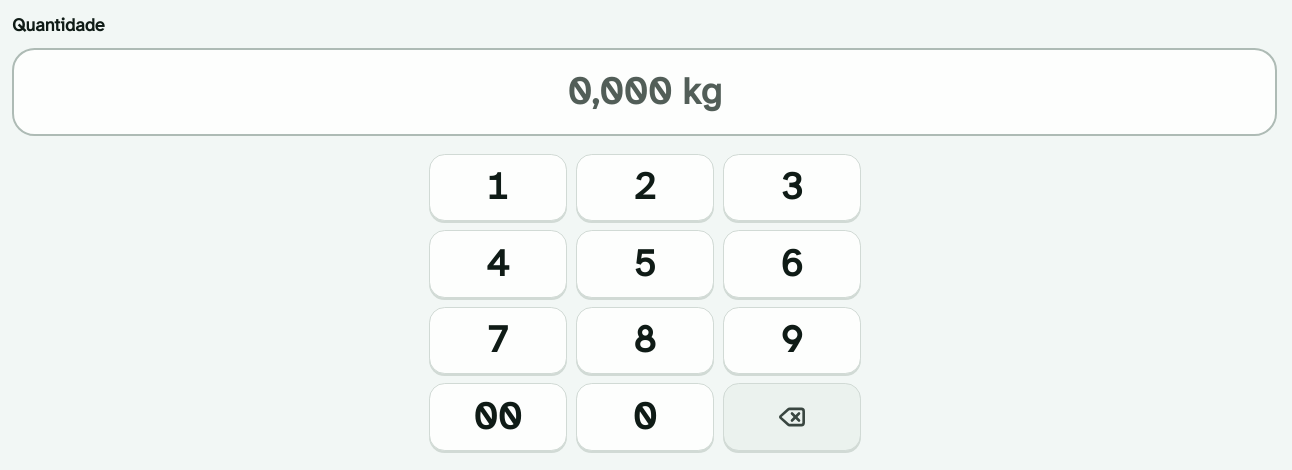
Test: QuantityInput › em kg, os dígitos entram pela direita com 3 casas
Click the field labelled "Quantidade".
click(644, 92)  # box [12,48,1277,136]
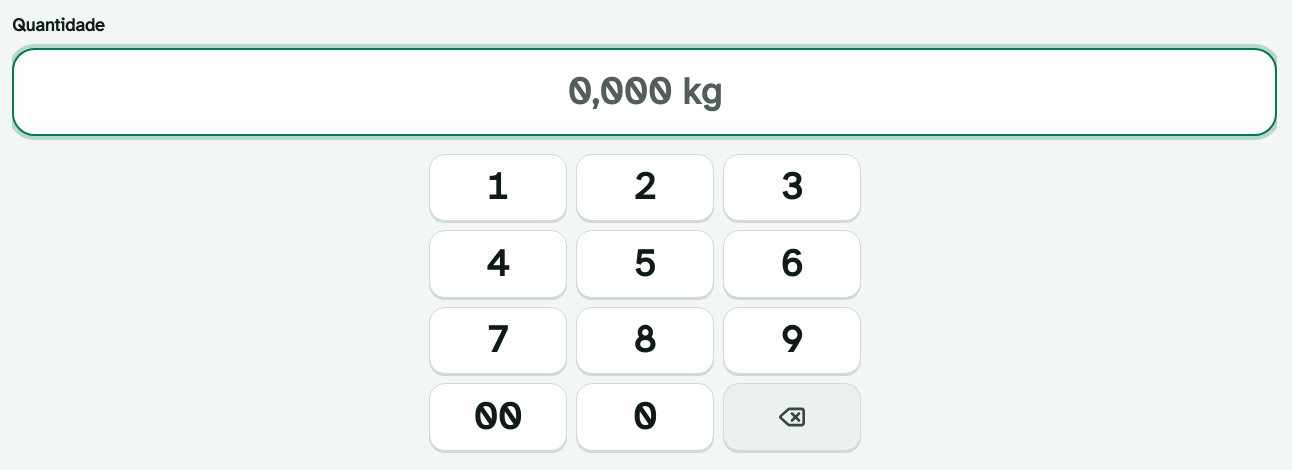
Type keys "1500"
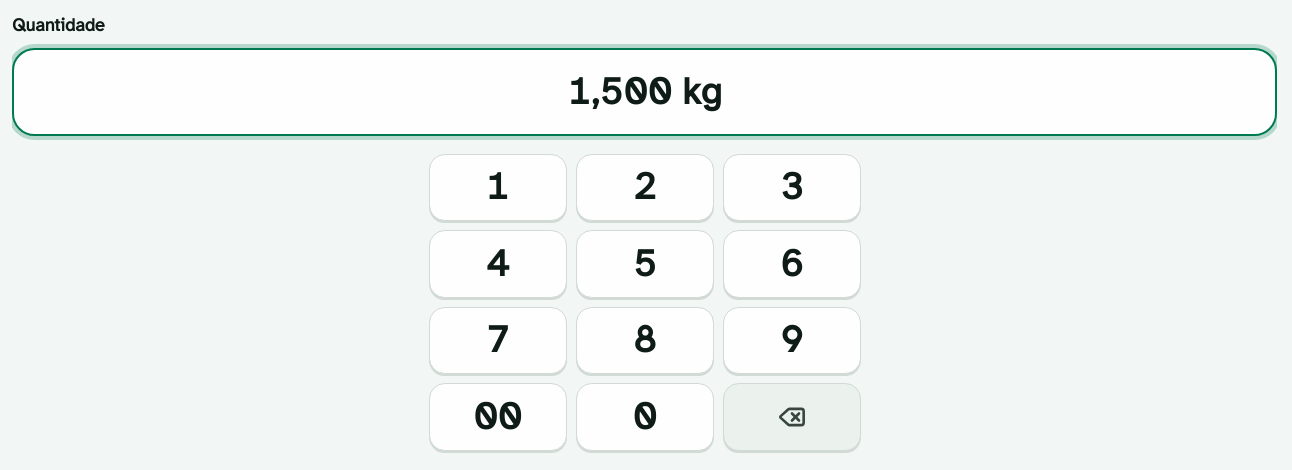
Result: the field labelled "Quantidade" holds "1,500 kg" at [12,48,1277,136]
